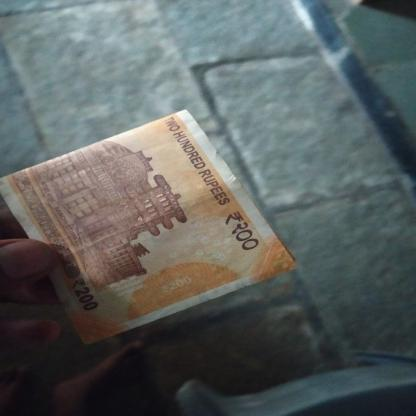New200Back: (22, 117, 258, 319)
